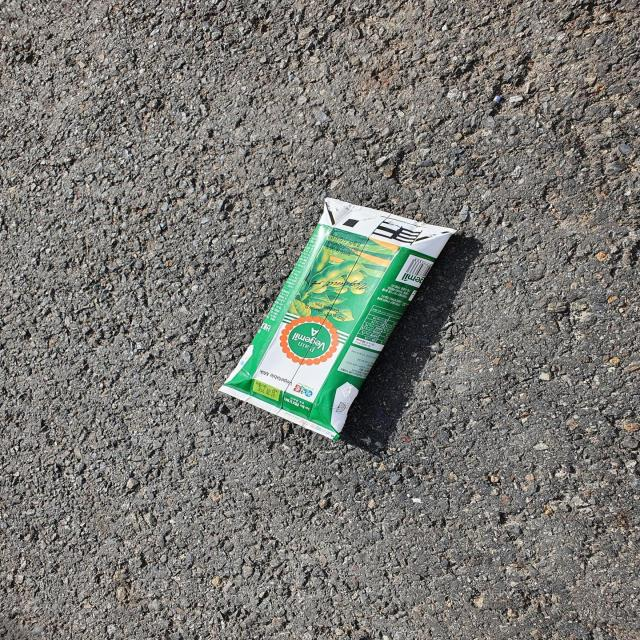paperpack: (219, 197, 456, 440)
